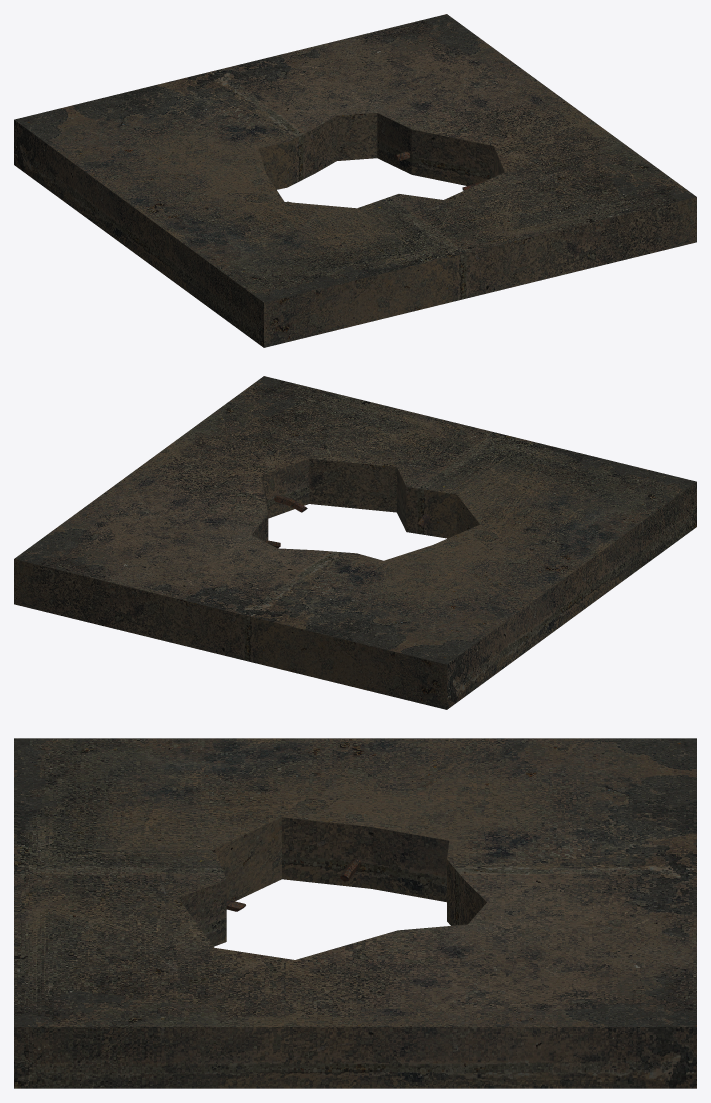
File: floor_ceiling_hr_2_hole.glb
The picture shows the model from 3 angles, top to bottom: view 1: azimuth 30°, elevation 25°; view 2: azimuth 150°, elevation 25°; view 3: azimuth 270°, elevation 25°; orthographic projection. The views are drawn at different scales.
Visible parts, largest first — view 1: floor_ceiling_hr_2_hole; view 2: floor_ceiling_hr_2_hole; view 3: floor_ceiling_hr_2_hole.
Part boxes in pixels (x1,y1,x2,y2): floor_ceiling_hr_2_hole: (14, 14, 696, 347); floor_ceiling_hr_2_hole: (14, 376, 696, 709); floor_ceiling_hr_2_hole: (14, 738, 696, 1088).
Bounding box in the file's own units: 4 × 0.4 × 4.
Materials: 2 (2 with a texture image).
